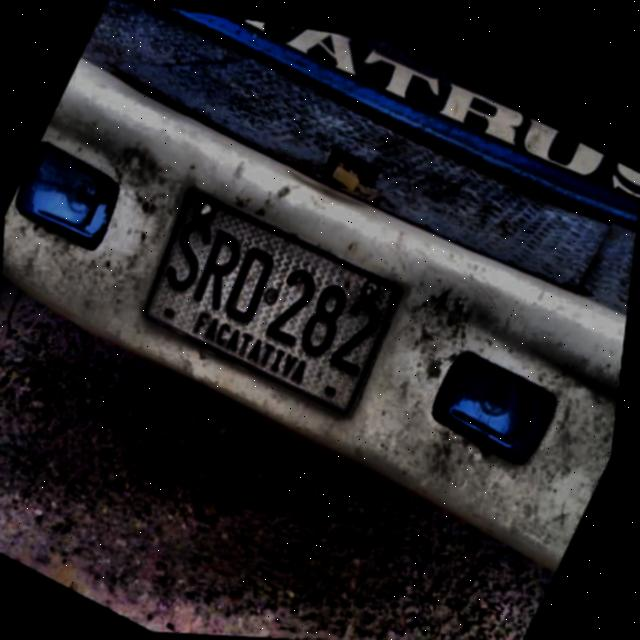plate: (146, 191, 401, 417)
